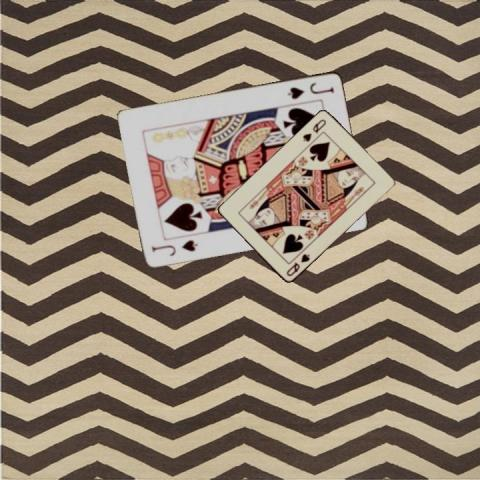Js: (284, 79, 336, 100), (149, 236, 200, 256)
Qs: (284, 251, 312, 278), (300, 117, 327, 143)
